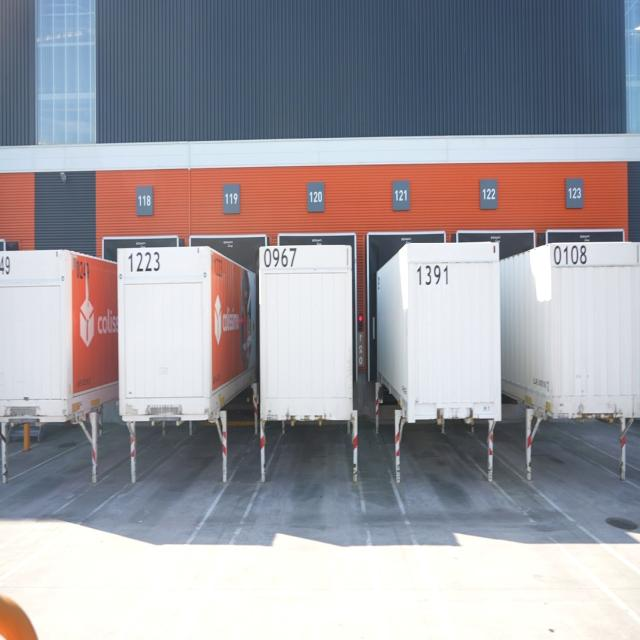Code: (125, 248, 166, 280), (416, 260, 454, 289), (261, 243, 298, 271), (553, 242, 587, 268)
